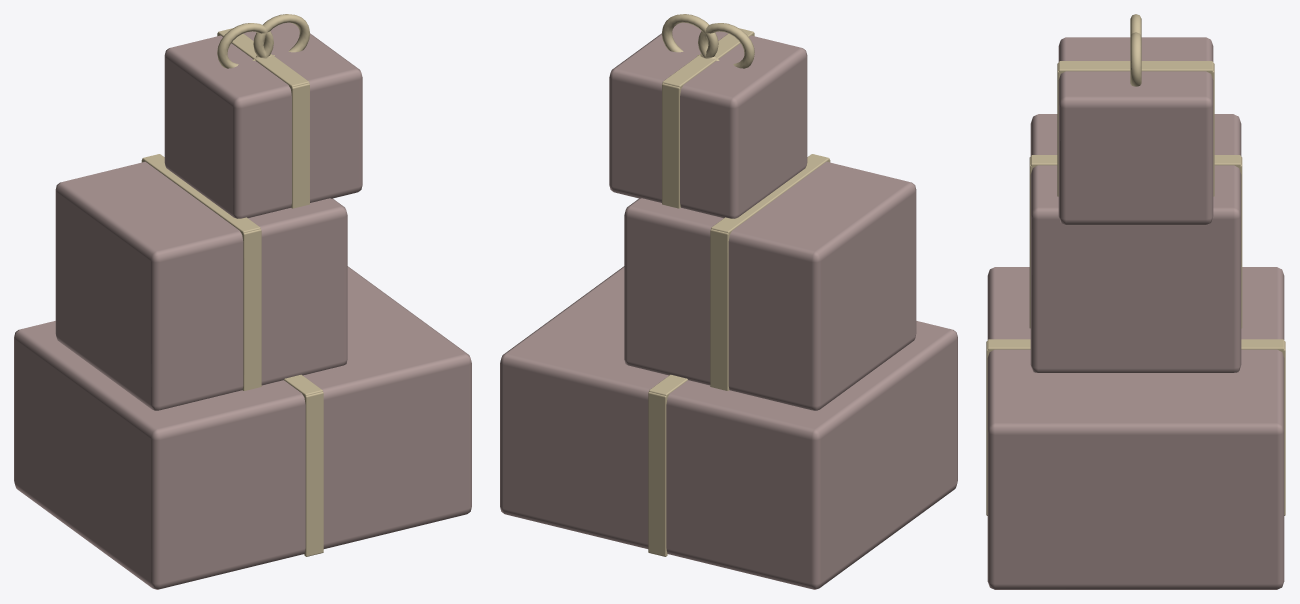
The model's file is giftstack.glb.
The picture shows the model from 3 angles, left to right: view 1: azimuth 30°, elevation 25°; view 2: azimuth 150°, elevation 25°; view 3: azimuth 270°, elevation 25°; orthographic projection. The views are drawn at different scales.
Parts seen in each view (by area): view 1: wrapped-gift-0, wrapped-gift-1, wrapped-gift-2, gift-ribbon-side-0-1, gift-ribbon-side-1-1, gift-ribbon-side-2-1, gift-ribbon-top-1, gift-ribbon-top-2, bow-loop-1, bow-loop--1; view 2: wrapped-gift-0, wrapped-gift-1, wrapped-gift-2, gift-ribbon-side-0--1, gift-ribbon-side-1--1, gift-ribbon-side-2--1, gift-ribbon-top-1, gift-ribbon-top-2, bow-loop-1, bow-loop--1; view 3: wrapped-gift-0, wrapped-gift-1, wrapped-gift-2, gift-ribbon-top-2, gift-ribbon-top-0, bow-loop-1, gift-ribbon-top-1.
Boxes of the visible parts, left/top/right/bottom form: wrapped-gift-0: left=14, top=266, right=471, bottom=589; wrapped-gift-1: left=55, top=161, right=347, bottom=410; wrapped-gift-2: left=164, top=22, right=362, bottom=218; gift-ribbon-side-0-1: left=304, top=392, right=323, bottom=556; gift-ribbon-side-1-1: left=242, top=229, right=261, bottom=390; gift-ribbon-side-2-1: left=291, top=83, right=309, bottom=208; gift-ribbon-top-1: left=142, top=154, right=260, bottom=235; gift-ribbon-top-2: left=217, top=28, right=309, bottom=89; bow-loop-1: left=253, top=14, right=309, bottom=58; bow-loop--1: left=217, top=23, right=273, bottom=68; wrapped-gift-0: left=500, top=266, right=957, bottom=589; wrapped-gift-1: left=624, top=161, right=916, bottom=410; wrapped-gift-2: left=609, top=22, right=807, bottom=218; gift-ribbon-side-0--1: left=648, top=392, right=667, bottom=556; gift-ribbon-side-1--1: left=710, top=229, right=729, bottom=390; gift-ribbon-side-2--1: left=662, top=83, right=680, bottom=208; gift-ribbon-top-1: left=711, top=154, right=829, bottom=234; gift-ribbon-top-2: left=662, top=28, right=754, bottom=89; bow-loop-1: left=662, top=14, right=718, bottom=58; bow-loop--1: left=698, top=23, right=754, bottom=68; wrapped-gift-0: left=987, top=267, right=1284, bottom=589; wrapped-gift-1: left=1030, top=114, right=1241, bottom=372; wrapped-gift-2: left=1058, top=37, right=1213, bottom=225; gift-ribbon-top-2: left=1058, top=61, right=1213, bottom=74; gift-ribbon-top-0: left=987, top=339, right=1284, bottom=352; bow-loop-1: left=1130, top=32, right=1141, bottom=86; gift-ribbon-top-1: left=1030, top=155, right=1241, bottom=168.
Bounding box in the file's own units: 0.62 × 0.8839 × 0.484.
